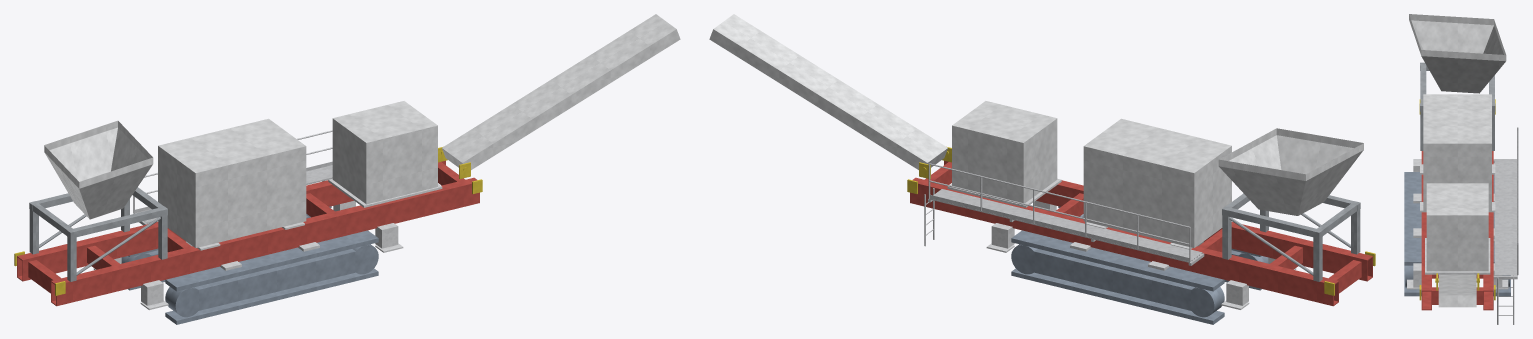
File: mobile-crusher-and-screener-chassis.glb
3 renders of one model, left to right at view 1: azimuth 30°, elevation 25°; view 2: azimuth 150°, elevation 25°; view 3: azimuth 270°, elevation 25°, orthographic. The views are drawn at different scales.
Parts seen in each view (by area): view 1: Crusher,Hopper&PowerPack(context), MainChassisBeams, CrawlerTracks(context), HopperSupportFrame, CrossMembers, TrackFrameMounts, Walkway&Handrail, Crusher&PowerPackPads, Conveyor&LiftingLugs; view 2: Crusher,Hopper&PowerPack(context), MainChassisBeams, CrawlerTracks(context), Walkway&Handrail, HopperSupportFrame, CrossMembers, TrackFrameMounts, Conveyor&LiftingLugs, Crusher&PowerPackPads; view 3: Crusher,Hopper&PowerPack(context), Walkway&Handrail, CrawlerTracks(context), MainChassisBeams, TrackFrameMounts, HopperSupportFrame, Crusher&PowerPackPads, CrossMembers, Conveyor&LiftingLugs.
Part boxes in pixels (x1,y1,x2,y2): Crusher,Hopper&PowerPack(context): (44, 14, 680, 247); MainChassisBeams: (17, 160, 479, 306); CrawlerTracks(context): (121, 206, 378, 324); HopperSupportFrame: (29, 187, 167, 281); CrossMembers: (28, 162, 465, 293); TrackFrameMounts: (93, 201, 403, 309); Walkway&Handrail: (133, 130, 332, 225); Crusher&PowerPackPads: (197, 178, 442, 250); Conveyor&LiftingLugs: (14, 146, 482, 295); Crusher,Hopper&PowerPack(context): (709, 14, 1363, 247); MainChassisBeams: (910, 160, 1372, 306); CrawlerTracks(context): (1011, 206, 1268, 324); Walkway&Handrail: (924, 163, 1204, 265); HopperSupportFrame: (1222, 193, 1360, 281); CrossMembers: (924, 162, 1361, 293); TrackFrameMounts: (986, 201, 1296, 309); Conveyor&LiftingLugs: (907, 146, 1375, 295); Crusher&PowerPackPads: (947, 178, 1192, 249); Crusher,Hopper&PowerPack(context): (1409, 14, 1506, 307); Walkway&Handrail: (1493, 127, 1518, 324); CrawlerTracks(context): (1404, 172, 1510, 296); MainChassisBeams: (1421, 151, 1493, 310); TrackFrameMounts: (1407, 159, 1508, 289); HopperSupportFrame: (1420, 62, 1495, 150); Crusher&PowerPackPads: (1420, 164, 1495, 274); CrossMembers: (1432, 274, 1483, 304); Conveyor&LiftingLugs: (1419, 99, 1495, 300).
Size of the model in its own units: 19.5 by 4.82 by 3.32.
Materials: 7 (7 with a texture image).
